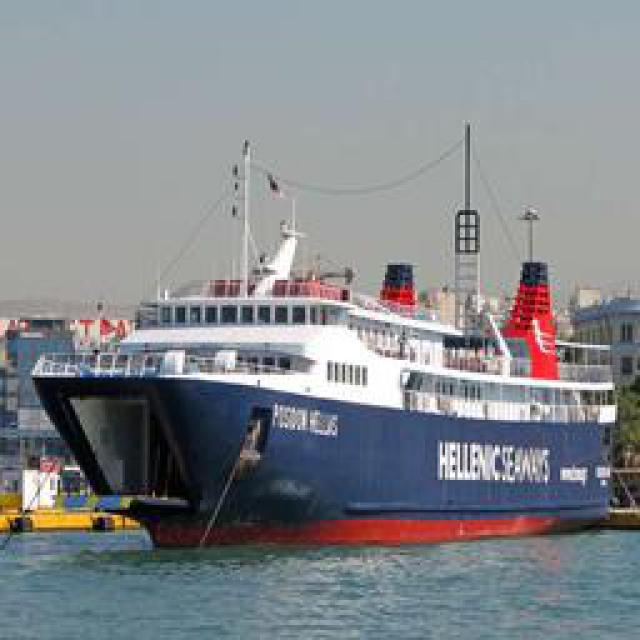Ship: (16, 122, 626, 545)
